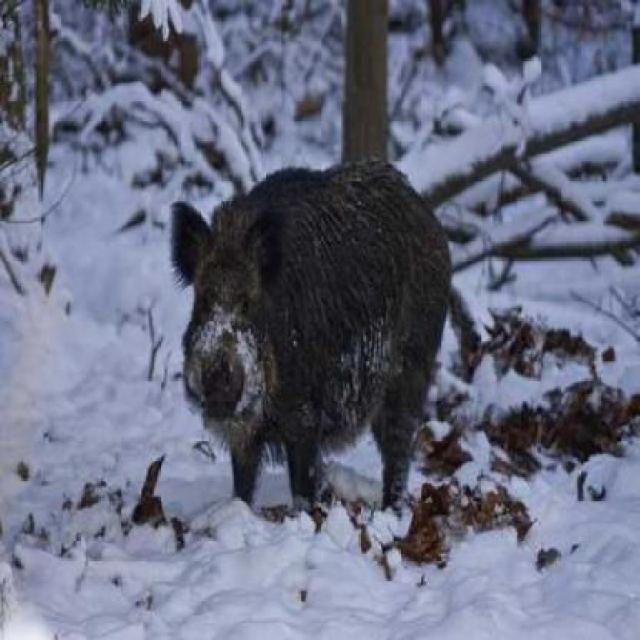pig: (136, 112, 532, 571)
